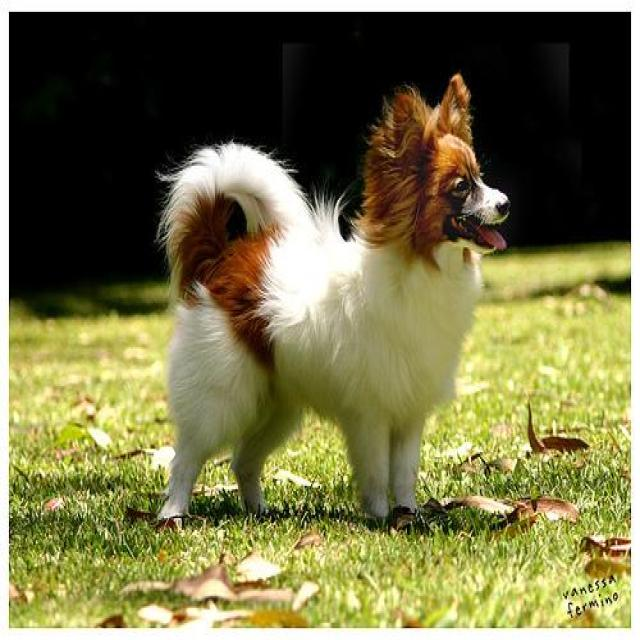papillon: (160, 71, 511, 523)
